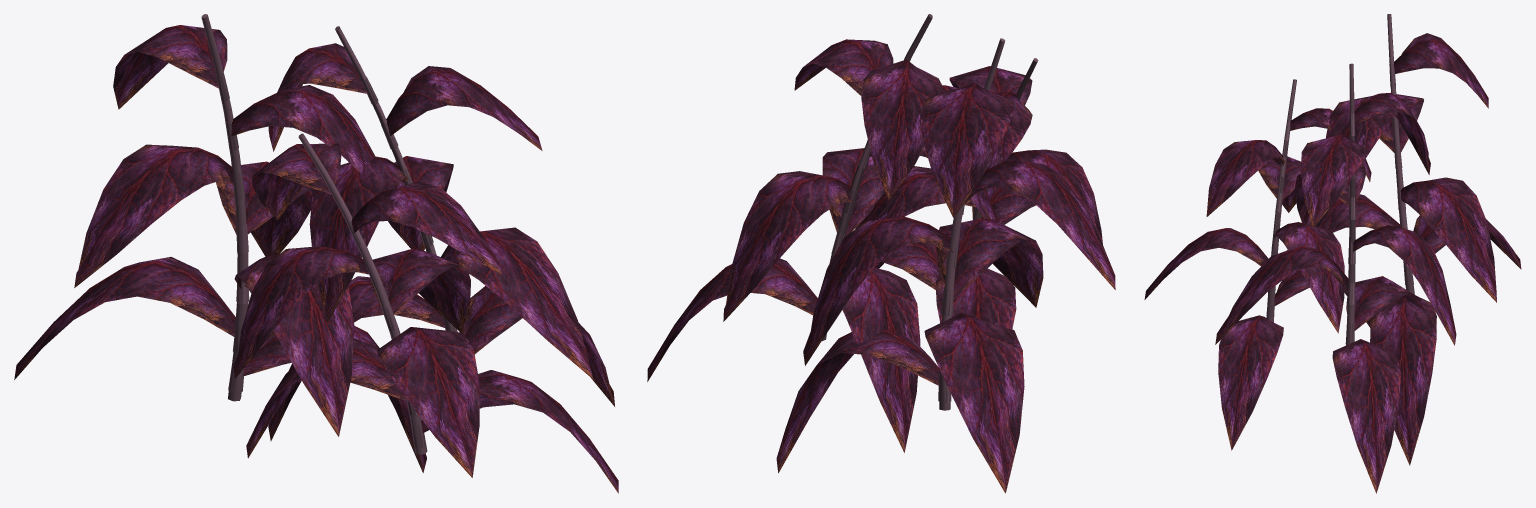
Rendered from broadgrass_07.glb.
The picture shows the model from 3 angles, left to right: view 1: azimuth 30°, elevation 25°; view 2: azimuth 150°, elevation 25°; view 3: azimuth 270°, elevation 25°; orthographic projection. The views are drawn at different scales.
Parts seen in each view (by area): view 1: export; view 2: export; view 3: export.
Part boxes in pixels (x1=…): export: x1=14, y1=14, x2=618, y2=493; export: x1=647, y1=14, x2=1115, y2=493; export: x1=1144, y1=14, x2=1521, y2=493.
Size of the model in its own units: 1.08 by 1.02 by 0.941.
Materials: 2 (2 with a texture image).
